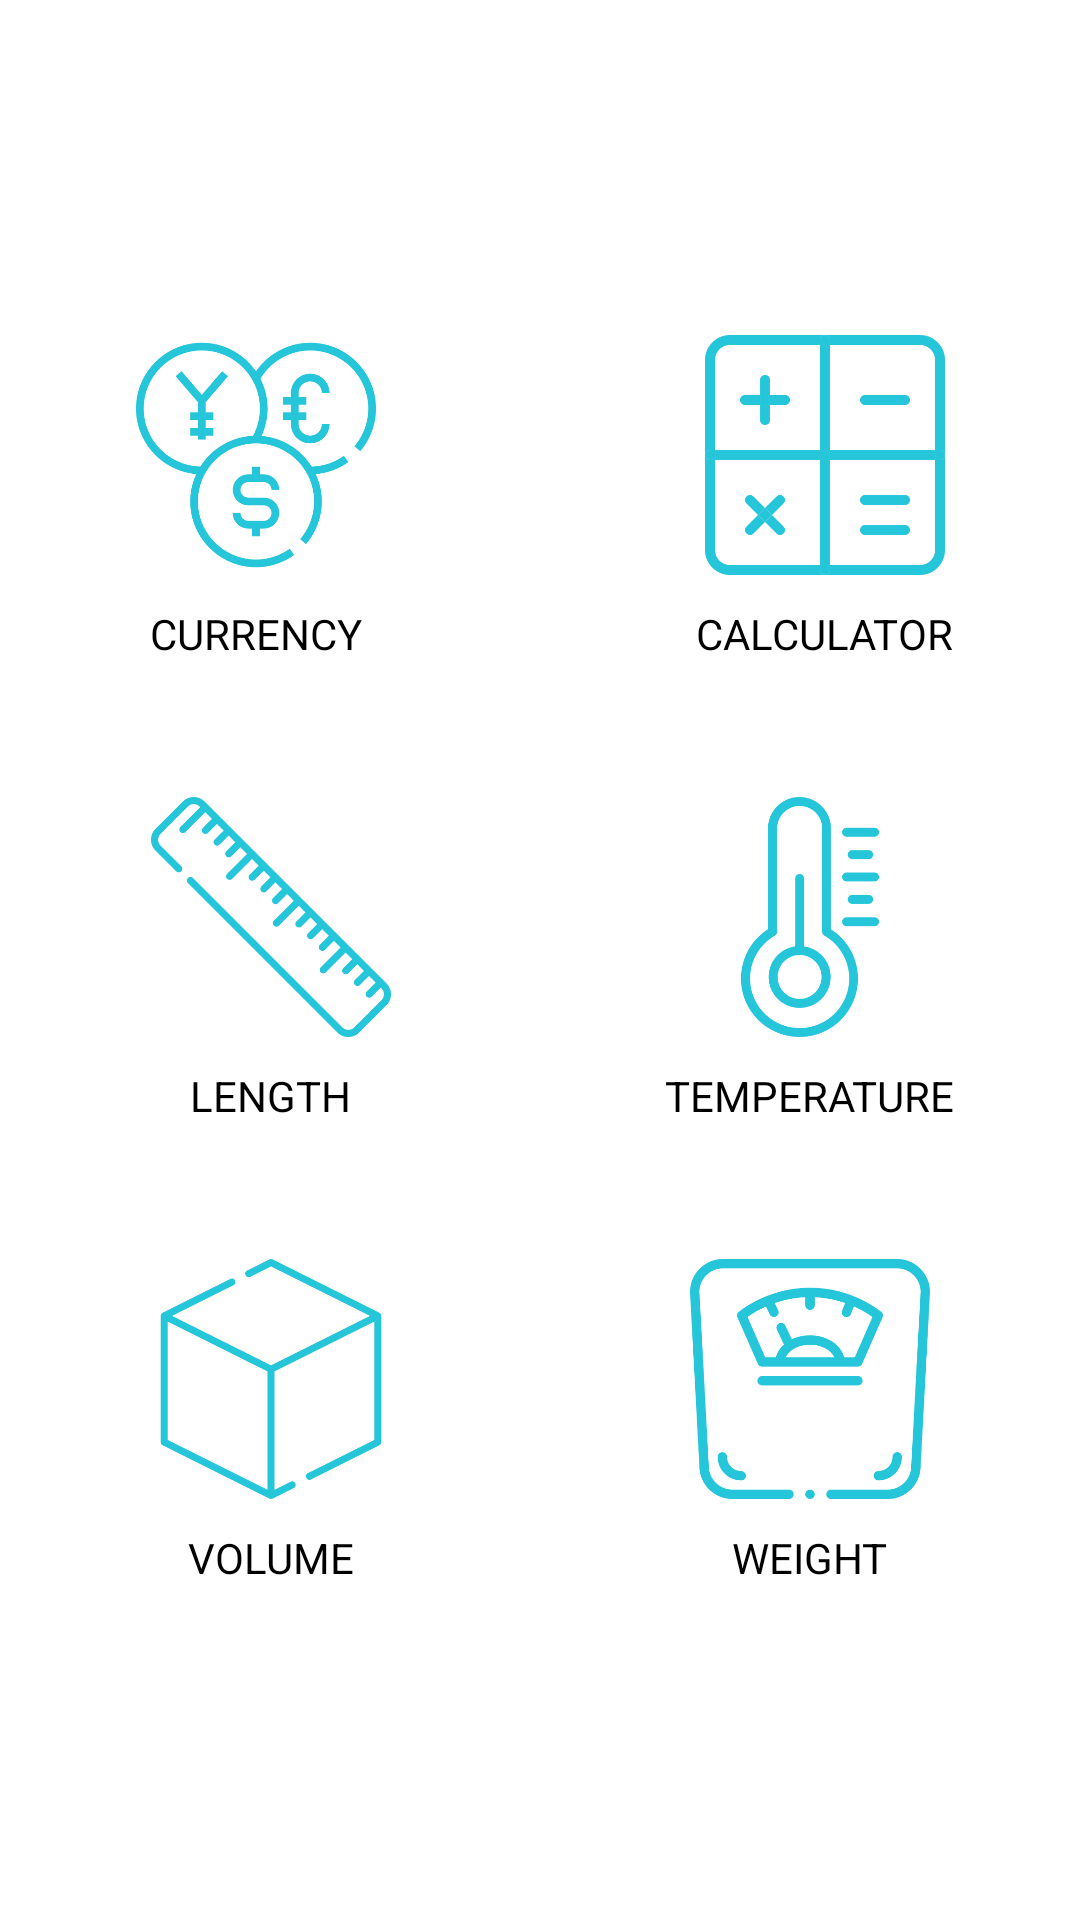

Icons on this 1080*1920 Android screen, each with its box as detection(x1, y1, x2, y2):
body scale: detection(690, 1259, 930, 1499)
cube: detection(160, 1259, 382, 1499)
exchange: detection(136, 342, 376, 568)
ruler: detection(151, 797, 391, 1037)
thermometer: detection(741, 797, 879, 1037)
